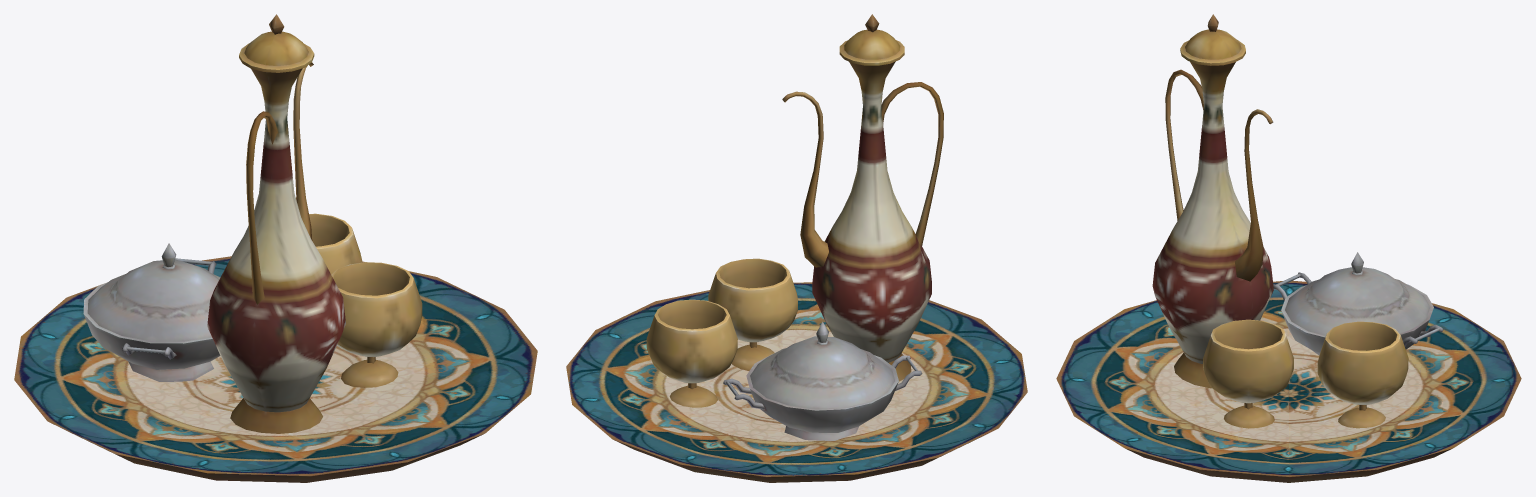
Rendered from Homeworld_Interior_Xm_Decoration_Prop_Wineset_01_Vo.fbx.
The picture shows the model from 3 angles, left to right: view 1: azimuth 30°, elevation 25°; view 2: azimuth 150°, elevation 25°; view 3: azimuth 270°, elevation 25°; orthographic projection. The views are drawn at different scales.
Visible parts, largest first — view 1: Indoor_Xm_Prop_Barbecue_Decoration_58_Vo, Indoor_Xm_Prop_Barbecue_Decoration_18_Vo, Indoor_Xm_Prop_Barbecue_Decoration_20_Lod0, Indoor_Xm_Prop_Barbecue_Decoration_17_Vo, Indoor_Xm_Prop_Barbecue_Decoration_17_Vo (1); view 2: Indoor_Xm_Prop_Barbecue_Decoration_58_Vo, Indoor_Xm_Prop_Barbecue_Decoration_18_Vo, Indoor_Xm_Prop_Barbecue_Decoration_20_Lod0, Indoor_Xm_Prop_Barbecue_Decoration_17_Vo (1), Indoor_Xm_Prop_Barbecue_Decoration_17_Vo; view 3: Indoor_Xm_Prop_Barbecue_Decoration_58_Vo, Indoor_Xm_Prop_Barbecue_Decoration_18_Vo, Indoor_Xm_Prop_Barbecue_Decoration_20_Lod0, Indoor_Xm_Prop_Barbecue_Decoration_17_Vo, Indoor_Xm_Prop_Barbecue_Decoration_17_Vo (1).
Boxes of the visible parts, left/top/right/bottom form: Indoor_Xm_Prop_Barbecue_Decoration_58_Vo: left=14, top=256, right=537, bottom=482; Indoor_Xm_Prop_Barbecue_Decoration_18_Vo: left=207, top=14, right=345, bottom=433; Indoor_Xm_Prop_Barbecue_Decoration_20_Lod0: left=83, top=243, right=220, bottom=381; Indoor_Xm_Prop_Barbecue_Decoration_17_Vo: left=331, top=262, right=422, bottom=387; Indoor_Xm_Prop_Barbecue_Decoration_17_Vo (1): left=309, top=213, right=362, bottom=274; Indoor_Xm_Prop_Barbecue_Decoration_58_Vo: left=566, top=282, right=1027, bottom=482; Indoor_Xm_Prop_Barbecue_Decoration_18_Vo: left=782, top=14, right=943, bottom=381; Indoor_Xm_Prop_Barbecue_Decoration_20_Lod0: left=723, top=321, right=922, bottom=440; Indoor_Xm_Prop_Barbecue_Decoration_17_Vo (1): left=646, top=299, right=737, bottom=407; Indoor_Xm_Prop_Barbecue_Decoration_17_Vo: left=708, top=258, right=797, bottom=370; Indoor_Xm_Prop_Barbecue_Decoration_58_Vo: left=1056, top=280, right=1521, bottom=482; Indoor_Xm_Prop_Barbecue_Decoration_18_Vo: left=1152, top=14, right=1273, bottom=388; Indoor_Xm_Prop_Barbecue_Decoration_20_Lod0: left=1273, top=252, right=1443, bottom=355; Indoor_Xm_Prop_Barbecue_Decoration_17_Vo: left=1203, top=319, right=1293, bottom=428; Indoor_Xm_Prop_Barbecue_Decoration_17_Vo (1): left=1317, top=321, right=1408, bottom=428.
Bounding box in the file's own units: 1.02 × 0.8767 × 1.02.
